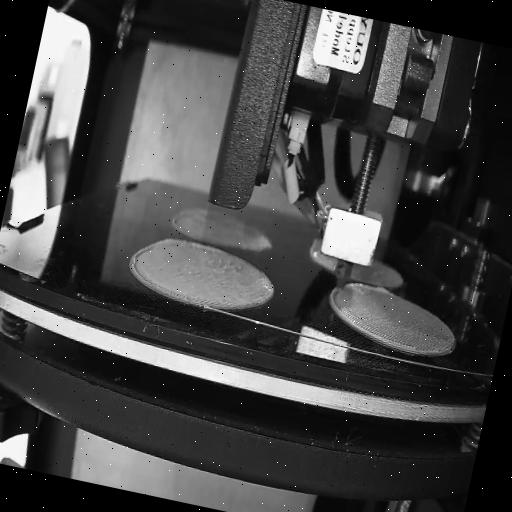over_extrusion: (124, 236, 155, 286), (372, 282, 397, 298)
